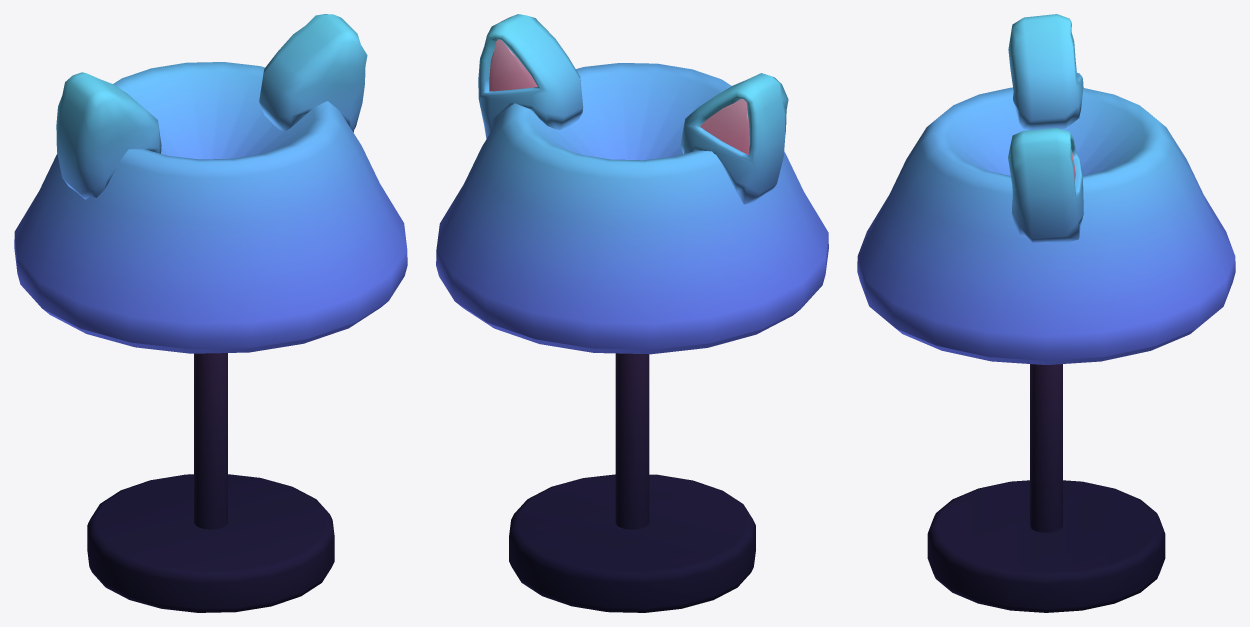
The model's file is smol_lamp.fbx.
The picture shows the model from 3 angles, left to right: view 1: azimuth 30°, elevation 25°; view 2: azimuth 150°, elevation 25°; view 3: azimuth 270°, elevation 25°; orthographic projection. The views are drawn at different scales.
Visible parts, largest first — view 1: Lamp1; view 2: Lamp1; view 3: Lamp1.
Boxes of the visible parts, left/top/right/bottom form: Lamp1: left=14, top=14, right=407, bottom=612; Lamp1: left=436, top=14, right=828, bottom=612; Lamp1: left=857, top=14, right=1235, bottom=612.
Bounding box in the file's own units: 89.25 × 128 × 89.25.
